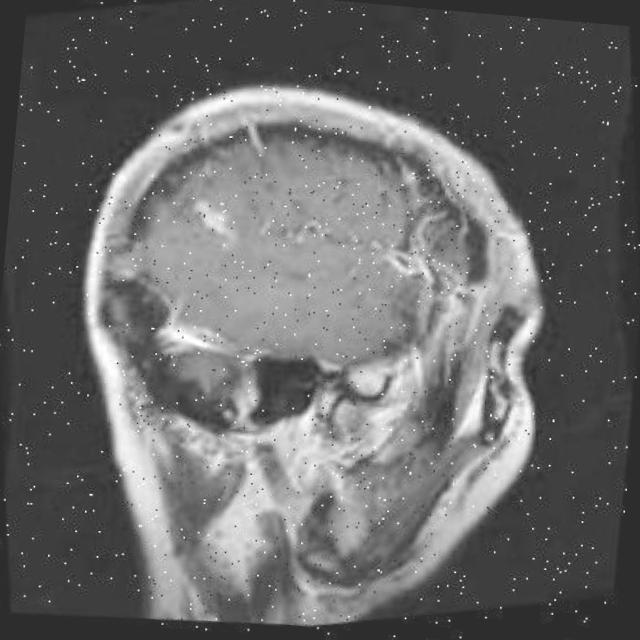CN: (194, 293, 402, 488)
